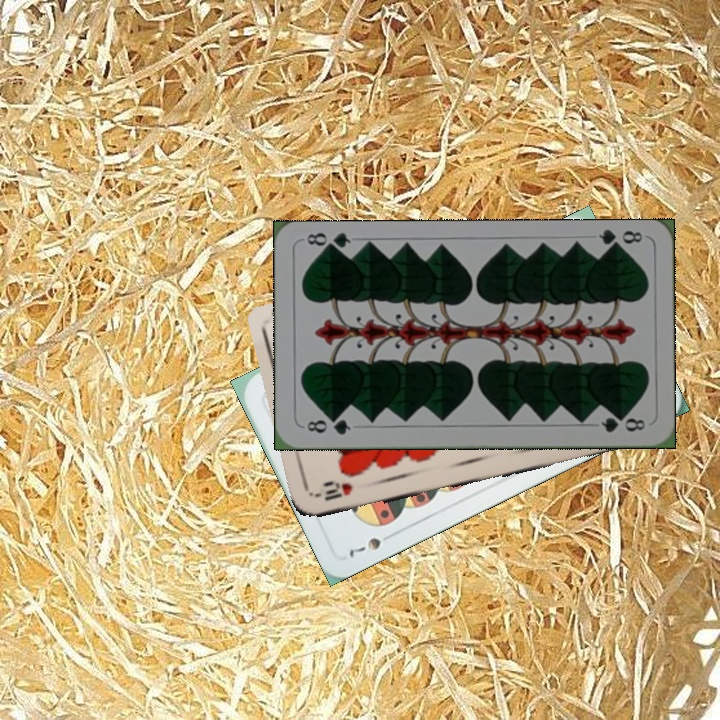G8: (595, 226, 645, 254), (302, 414, 354, 438)
H10: (313, 480, 355, 504)
S7: (344, 528, 398, 561)
